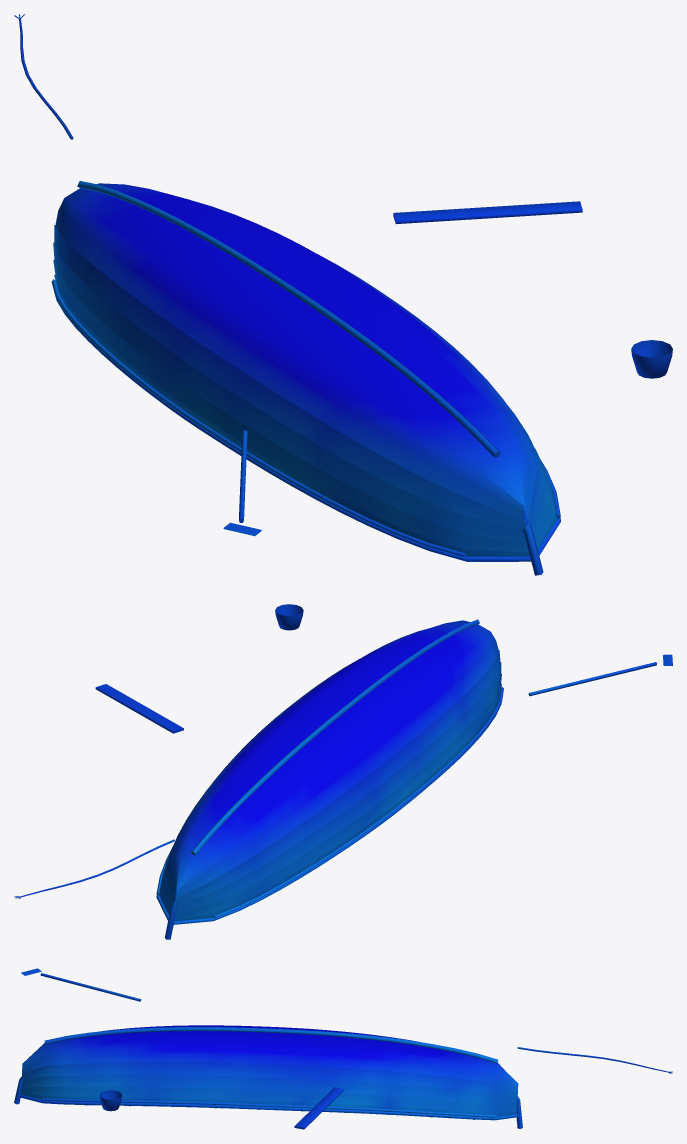
Rendered from hull_capsized.glb.
3 renders of one model, top to bottom at view 1: azimuth 30°, elevation 25°; view 2: azimuth 150°, elevation 25°; view 3: azimuth 270°, elevation 25°, orthographic. The views are drawn at different scales.
Visible parts, largest first — view 1: hull_capsized; view 2: hull_capsized; view 3: hull_capsized.
Boxes of the visible parts, x1,y1,x2,y2 form: hull_capsized: (14,14,672,575); hull_capsized: (14,604,672,939); hull_capsized: (14,968,672,1129).
Size of what is drawn, in the model's own units: 7.61 by 2.13 by 13.28.
